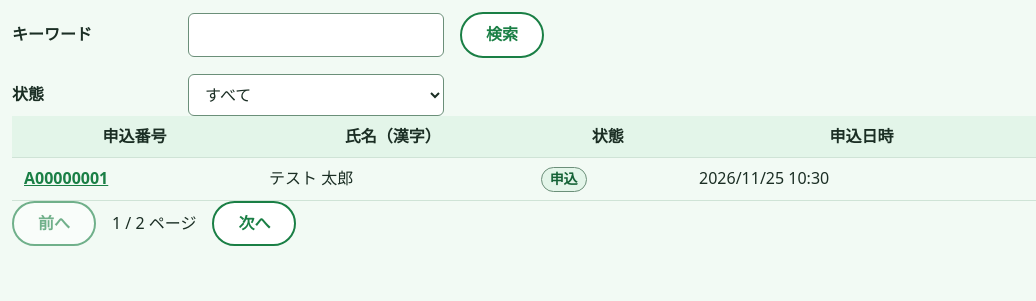
ページの誤りは、ページの切り替えの下に赤字で出し、前の表は消さない
Expected: the table is shown, x1=12 y1=116 x2=1035 y2=201
Click the button "次へ" at (254, 224), box x1=212 y1=201 x2=296 y2=246
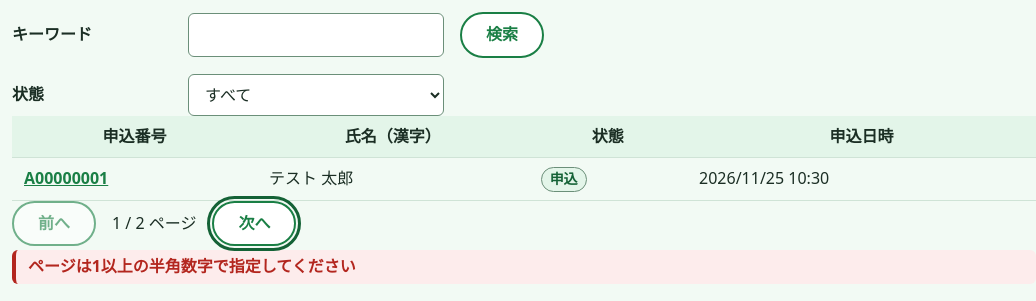
Expected: the table is shown, x1=12 y1=116 x2=1035 y2=201
Expected: the message reads "ページは1以上の半角数字で指定してください", x1=28 y1=255 x2=356 y2=277
